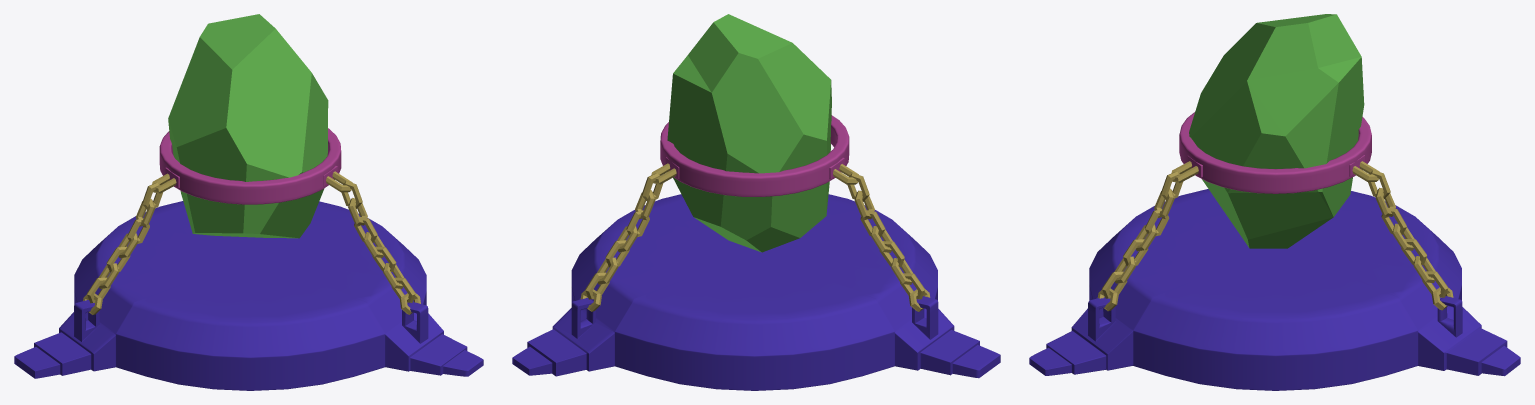
Rendered from rune_plus_holder.fbx.
The picture shows the model from 3 angles, left to right: view 1: azimuth 30°, elevation 25°; view 2: azimuth 150°, elevation 25°; view 3: azimuth 270°, elevation 25°; orthographic projection. The views are drawn at different scales.
Visible parts, largest first — view 1: Platform, Crystal, Holder; view 2: Platform, Crystal, Holder; view 3: Platform, Crystal, Holder.
Part boxes in pixels (box(x1,y1,x2,y2)): Platform: box(14, 201, 483, 390); Crystal: box(168, 14, 328, 238); Holder: box(159, 128, 341, 204); Platform: box(512, 194, 1000, 390); Crystal: box(667, 14, 831, 252); Holder: box(660, 115, 849, 196); Platform: box(1029, 189, 1520, 390); Crystal: box(1189, 14, 1364, 248); Holder: box(1179, 112, 1371, 193).
Size of the model in its own units: 242 by 174 by 256.
